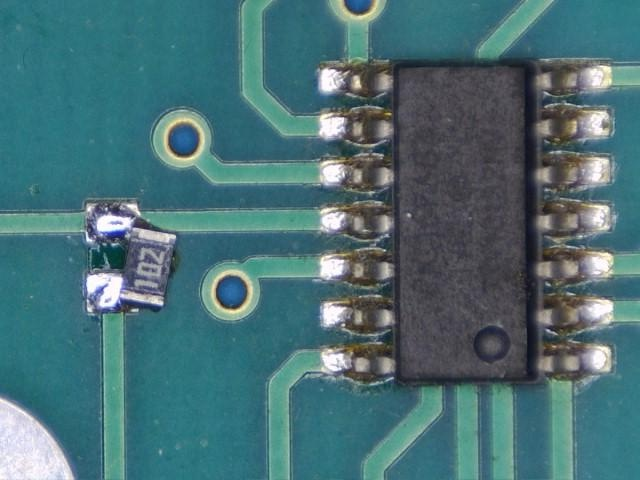pcb_defect: (84, 197, 178, 316)
